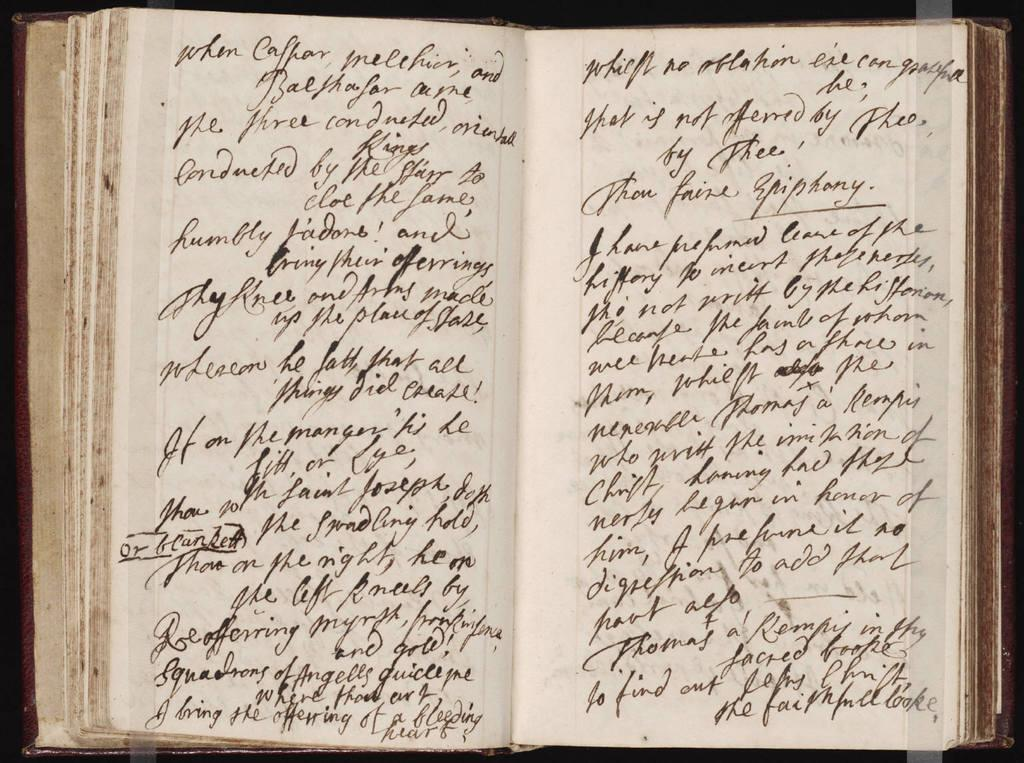book: (0, 3, 1023, 754)
